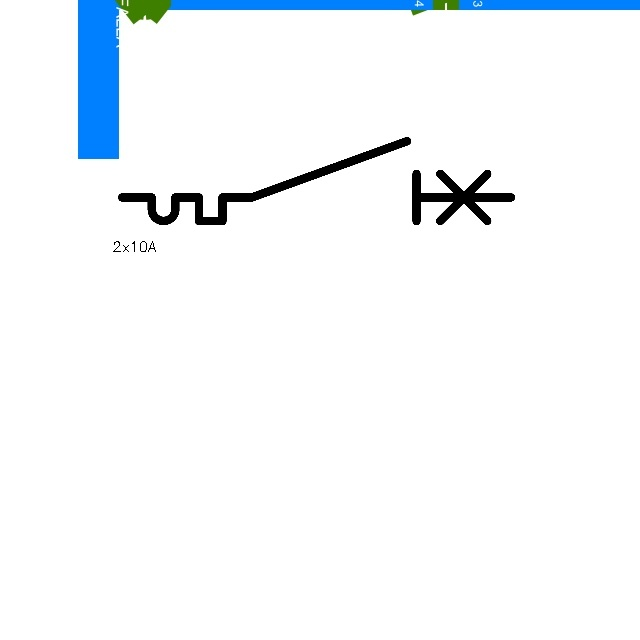interruptor_termomagnetico: (112, 131, 521, 231)
